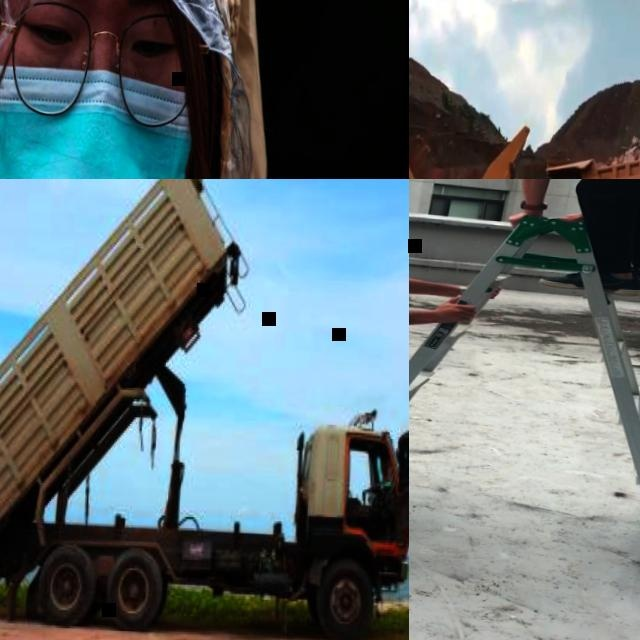Mask: (0, 62, 199, 179)
Person: (0, 0, 341, 179), (409, 179, 505, 540), (461, 179, 640, 300)
machinery: (0, 179, 409, 640), (409, 0, 598, 179)
